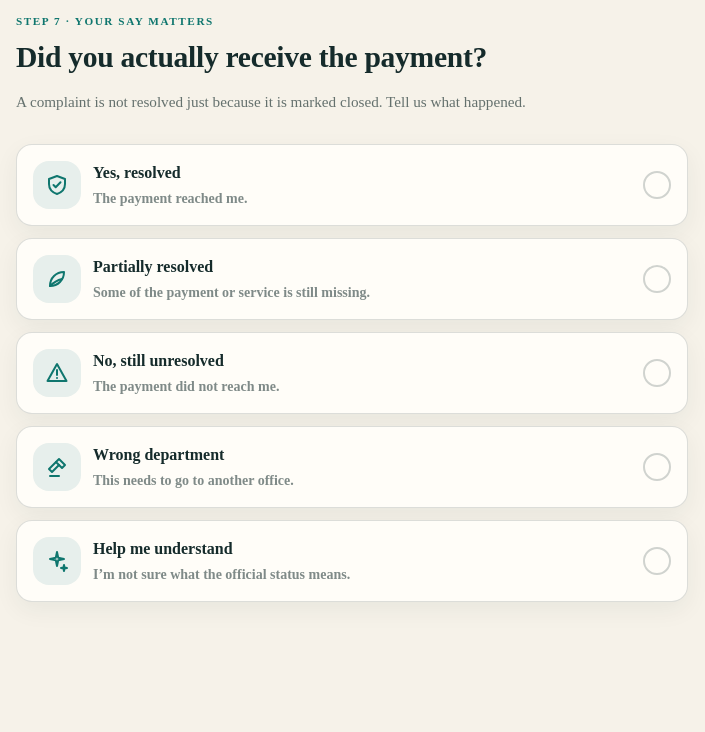
Scenario: ResolutionStep › shows a confirmation for a resolved payment without an appeal
What coordinates should you click on to do the following:
click the button "Yes, resolved The payment reached me."
I would click on:
 (57, 185)
Its box is [16,144,688,226].
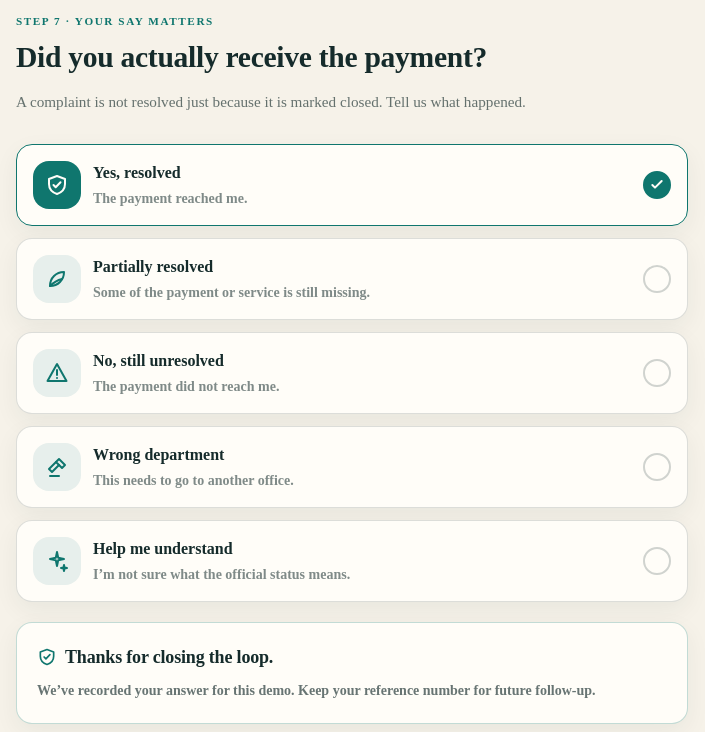
Check: the heading "Thanks for closing the loop." is shown, box [65,643,273,671]
